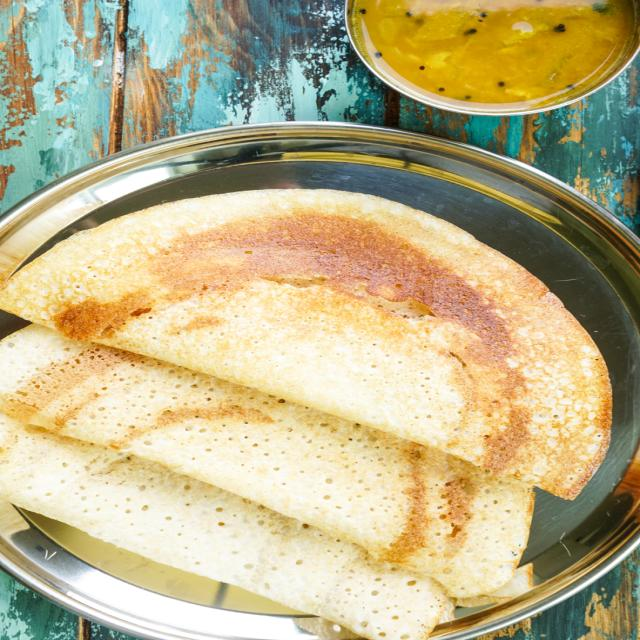dosa: (2, 180, 608, 498), (0, 314, 546, 598), (0, 357, 461, 638)
